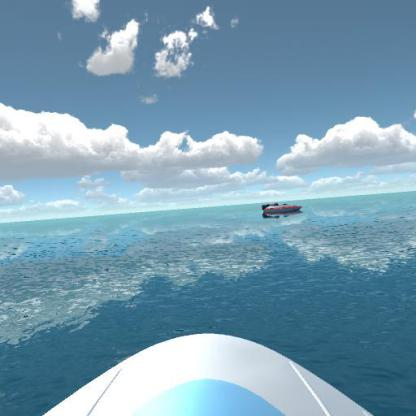usv3: (259, 197, 304, 219)
